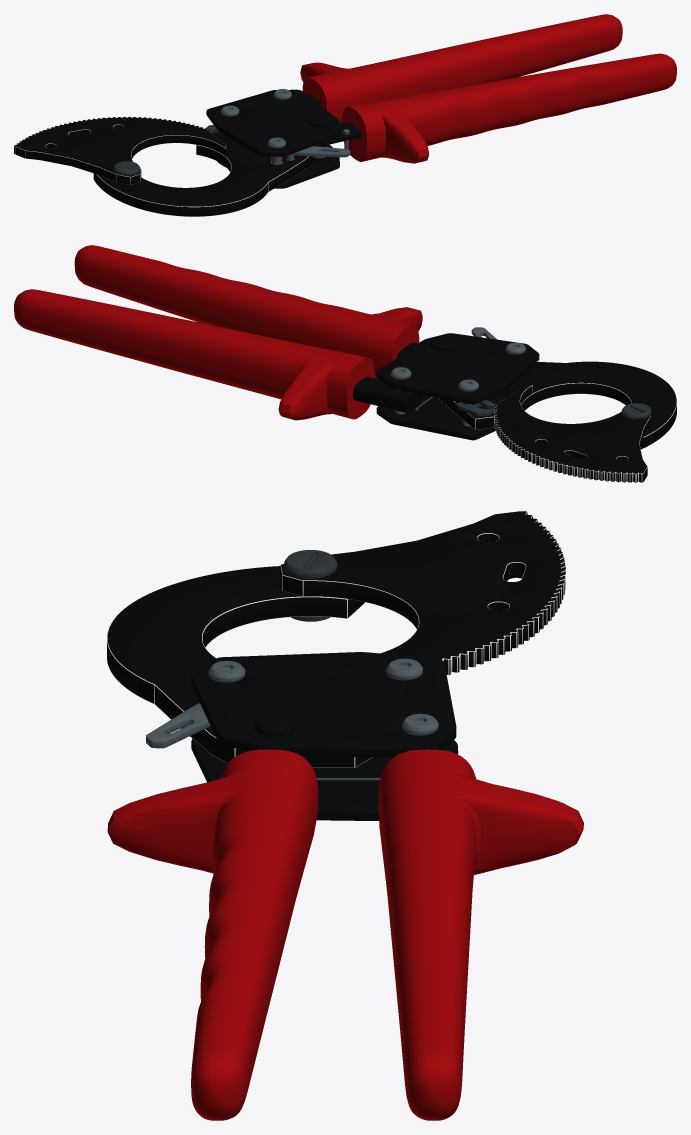
3 renders of one model, top to bottom at view 1: azimuth 30°, elevation 25°; view 2: azimuth 150°, elevation 25°; view 3: azimuth 270°, elevation 25°, orthographic. The views are drawn at different scales.
Parts seen in each view (by area): view 1: part_012_Lower_scalloped_grip_sleeve, part_001_Upper_guarded_grip_sleeve, part_003_Toothed_moving_blade, part_019_Fixed_cutting_jaw, part_016_Front_head_cheek, part_008_Rear_head_cheek, part_006_Slotted_release_paddle, part_009_Moving_handle_steel_bar, part_020_Fixed_cutting_jaw, part_004_Toothed_moving_blade, part_023_Blade_pivot_rivet; view 2: part_001_Upper_guarded_grip_sleeve, part_012_Lower_scalloped_grip_sleeve, part_003_Toothed_moving_blade, part_016_Front_head_cheek, part_019_Fixed_cutting_jaw, part_008_Rear_head_cheek, part_017_Fixed_handle_steel_bar, part_004_Toothed_moving_blade, part_023_Blade_pivot_rivet; view 3: part_012_Lower_scalloped_grip_sleeve, part_001_Upper_guarded_grip_sleeve, part_003_Toothed_moving_blade, part_016_Front_head_cheek, part_019_Fixed_cutting_jaw, part_008_Rear_head_cheek, part_004_Toothed_moving_blade, part_006_Slotted_release_paddle, part_023_Blade_pivot_rivet.
Boxes of the visible parts, left/top/right/bottom form: part_012_Lower_scalloped_grip_sleeve: left=342, top=53, right=676, bottom=163; part_001_Upper_guarded_grip_sleeve: left=300, top=14, right=622, bottom=123; part_003_Toothed_moving_blade: left=14, top=116, right=226, bottom=184; part_019_Fixed_cutting_jaw: left=93, top=132, right=313, bottom=216; part_016_Front_head_cheek: left=206, top=89, right=339, bottom=156; part_008_Rear_head_cheek: left=217, top=144, right=339, bottom=188; part_006_Slotted_release_paddle: left=290, top=146, right=350, bottom=157; part_009_Moving_handle_steel_bar: left=313, top=122, right=361, bottom=146; part_020_Fixed_cutting_jaw: left=97, top=145, right=308, bottom=216; part_004_Toothed_moving_blade: left=14, top=118, right=226, bottom=184; part_023_Blade_pivot_rivet: left=113, top=161, right=140, bottom=175; part_001_Upper_guarded_grip_sleeve: left=14, top=289, right=374, bottom=420; part_012_Lower_scalloped_grip_sleeve: left=74, top=245, right=422, bottom=378; part_003_Toothed_moving_blade: left=494, top=385, right=650, bottom=482; part_016_Front_head_cheek: left=376, top=333, right=539, bottom=404; part_019_Fixed_cutting_jaw: left=439, top=361, right=676, bottom=449; part_008_Rear_head_cheek: left=376, top=395, right=495, bottom=440; part_017_Fixed_handle_steel_bar: left=353, top=377, right=422, bottom=413; part_004_Toothed_moving_blade: left=494, top=385, right=650, bottom=482; part_023_Blade_pivot_rivet: left=621, top=403, right=651, bottom=419; part_012_Lower_scalloped_grip_sleeve: left=107, top=749, right=318, bottom=1120; part_001_Upper_guarded_grip_sleeve: left=378, top=749, right=583, bottom=1120; part_003_Toothed_moving_blade: left=280, top=511, right=565, bottom=674; part_016_Front_head_cheek: left=191, top=652, right=456, bottom=757; part_019_Fixed_cutting_jaw: left=107, top=566, right=371, bottom=767; part_008_Rear_head_cheek: left=191, top=738, right=393, bottom=820; part_004_Toothed_moving_blade: left=280, top=511, right=565, bottom=675; part_006_Slotted_release_paddle: left=146, top=703, right=210, bottom=748; part_023_Blade_pivot_rivet: left=284, top=550, right=337, bottom=621.
Bounding box in the file's own units: 0.2581 × 0.0208 × 0.0913.
